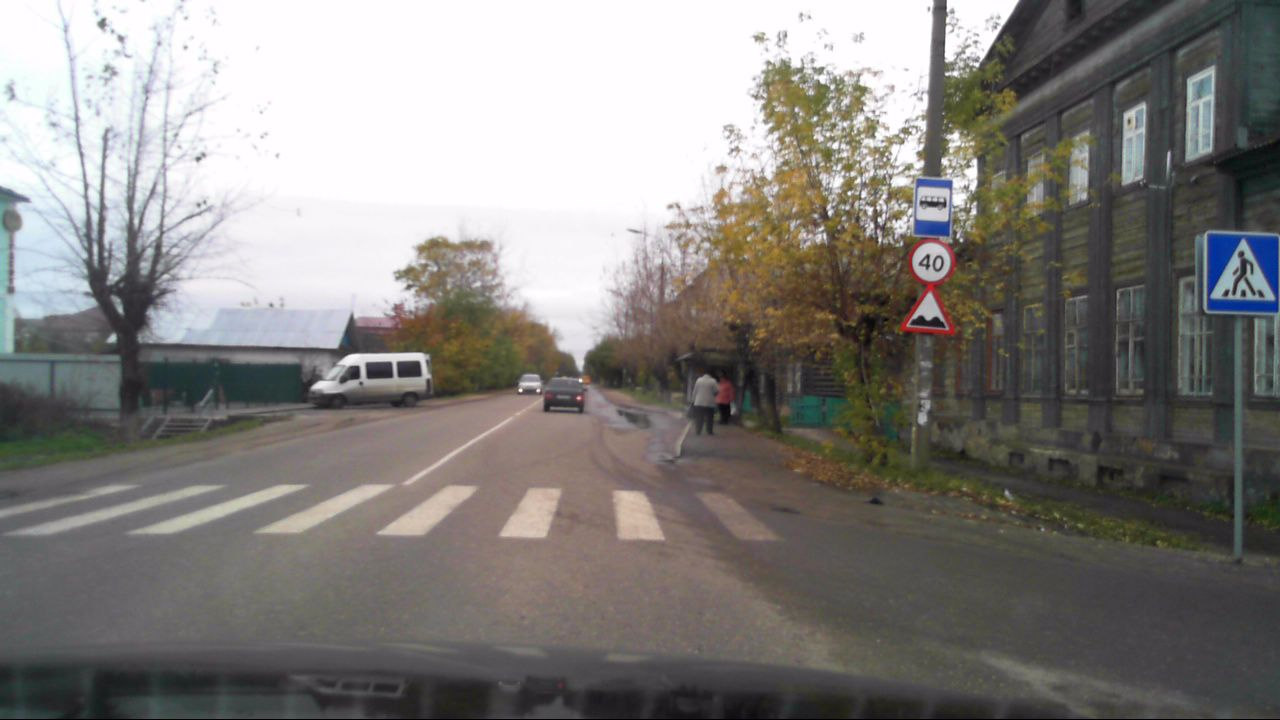speed_warning_40: (907, 238, 957, 286)
